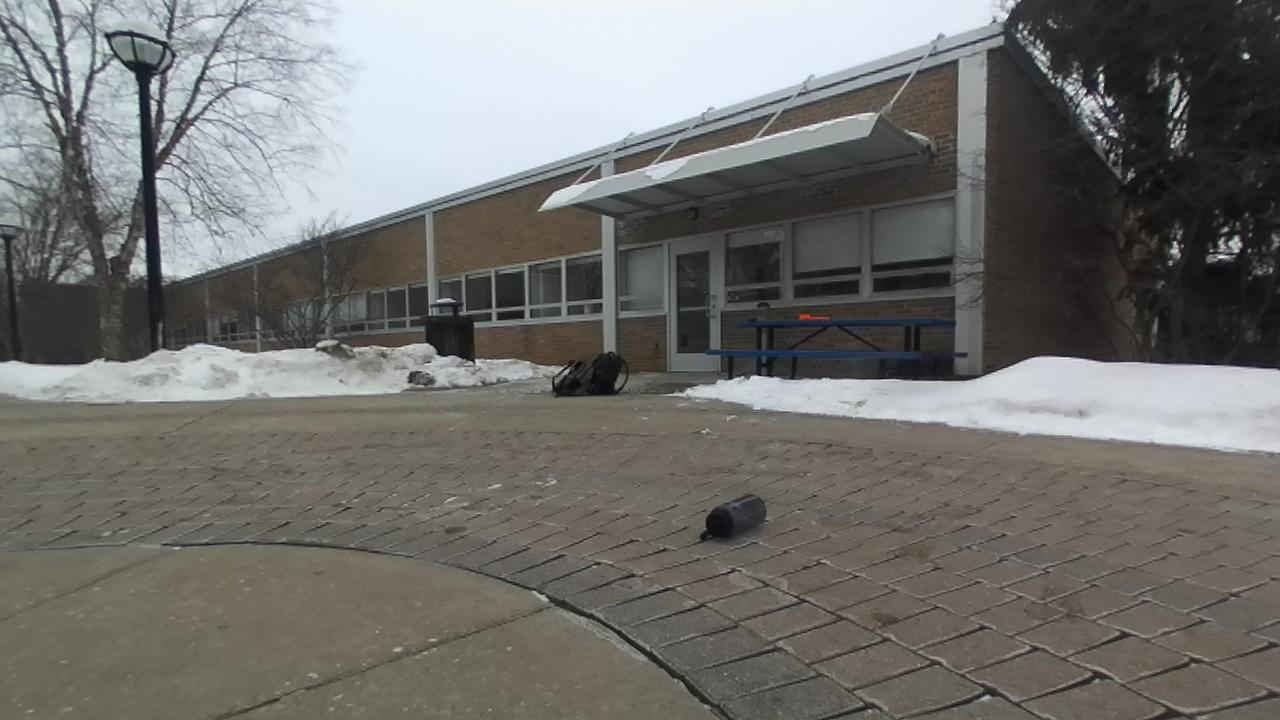bottle: (701, 494, 766, 538)
pick: (799, 315, 829, 319)
